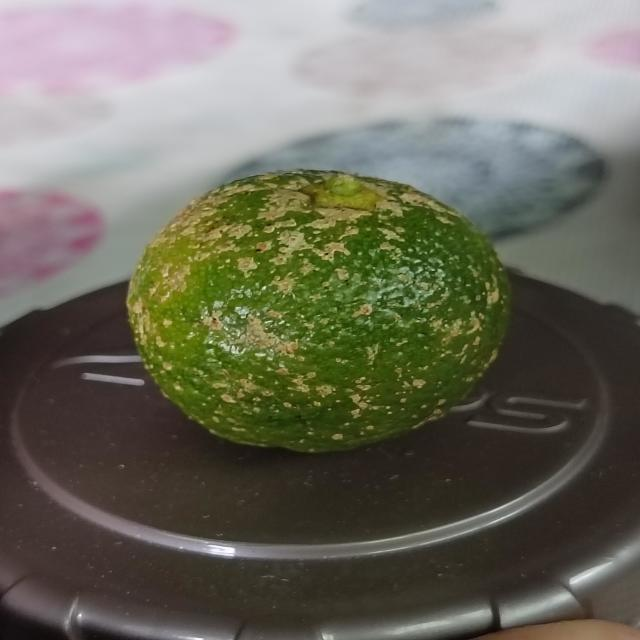scab: (125, 164, 504, 460)
